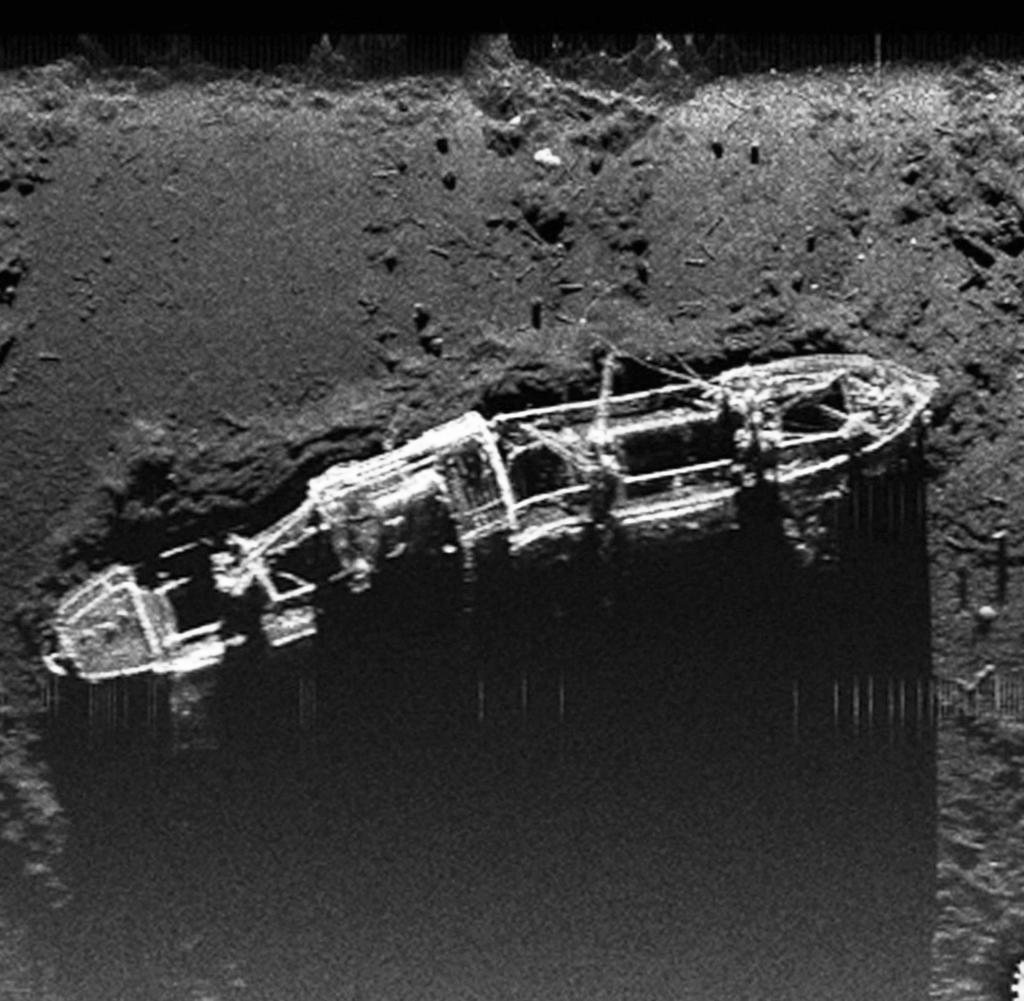ship: (62, 350, 935, 702)
